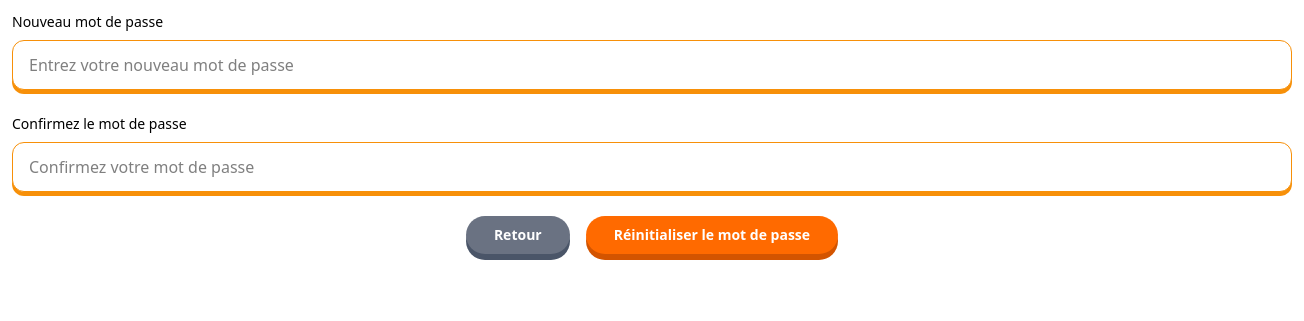
ResetPasswordForm.vue › devrait afficher une erreur si le mot de passe est trop court
Remplir les champs avec un mot de passe trop court
Type "123" into the password field with id "newPassword" at [652, 65], box [12,40,1292,90]
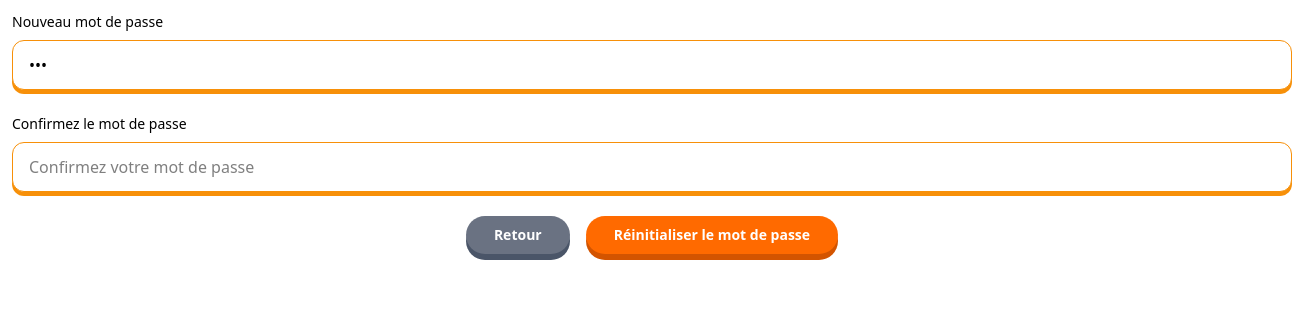
Type "123" into the password field with id "confirmPassword" at [652, 167], box [12,142,1292,192]
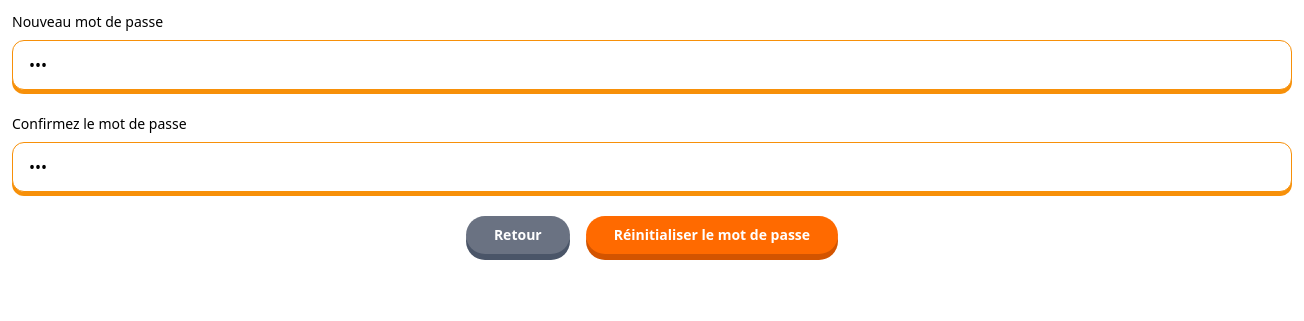
Soumettre le formulaire
Submit the form
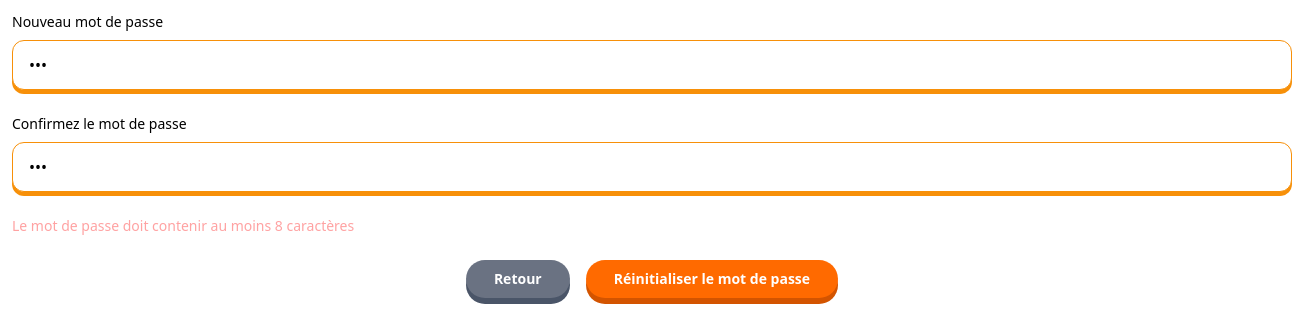
Result: the form shows "Le mot de passe doit contenir au moins 8 caractères" at [12,216,354,235]
